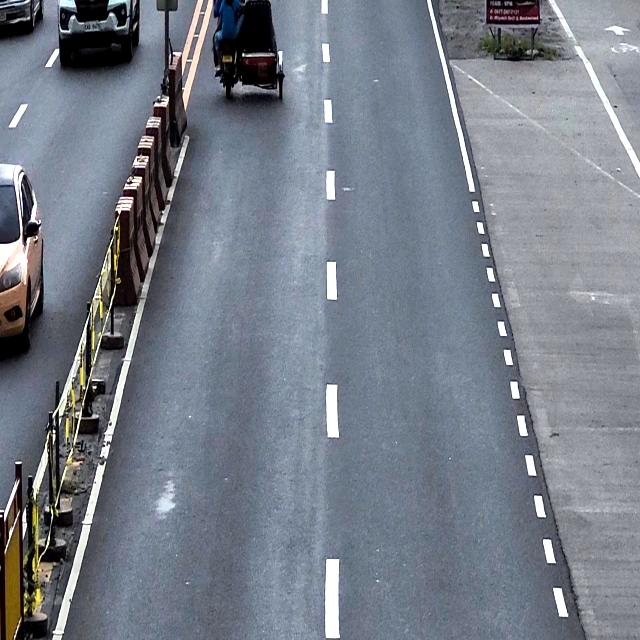Car: (0, 161, 45, 355), (57, 0, 141, 66)
License-Plate: (84, 20, 102, 32), (221, 54, 233, 63)
Tricycle: (214, 0, 287, 104)
